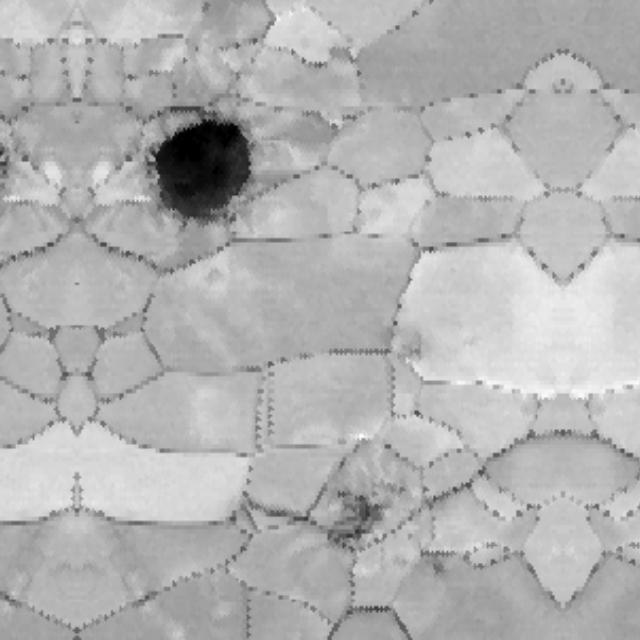good_void: (136, 111, 270, 231), (327, 470, 412, 547), (374, 317, 432, 366), (425, 558, 446, 581), (323, 116, 346, 137)
